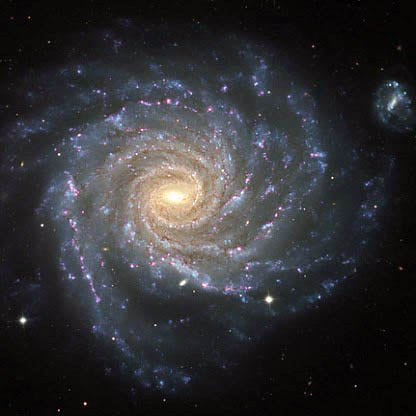NGC 1232: (14, 16, 415, 389)
